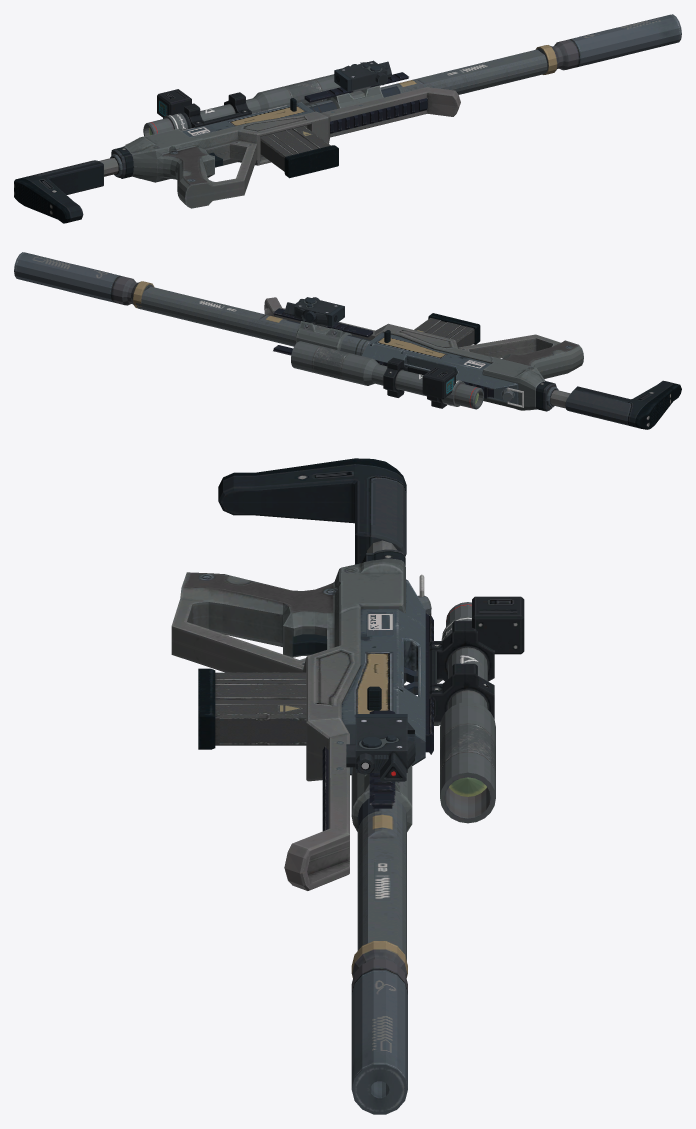
3 views of the same model, one above another, from view 1: azimuth 30°, elevation 25°; view 2: azimuth 150°, elevation 25°; view 3: azimuth 270°, elevation 25° (orthographic). The views are drawn at different scales.
Parts seen in each view (by area): view 1: wp02a_a001a_sm.mo, wp02a_scope001a_sm.mo, wp02a_muzzle001a_sm.mo, wp02a_magazine001a_sm.mo, wp02a_attach001a_sm.mo; view 2: wp02a_a001a_sm.mo, wp02a_scope001a_sm.mo, wp02a_muzzle001a_sm.mo, wp02a_magazine001a_sm.mo, wp02a_attach001a_sm.mo; view 3: wp02a_a001a_sm.mo, wp02a_scope001a_sm.mo, wp02a_muzzle001a_sm.mo, wp02a_magazine001a_sm.mo, wp02a_attach001a_sm.mo.
Part boxes in pixels (left/top/right/bottom): wp02a_a001a_sm.mo: left=14, top=49, right=547, bottom=223; wp02a_scope001a_sm.mo: left=143, top=74, right=340, bottom=136; wp02a_muzzle001a_sm.mo: left=535, top=14, right=681, bottom=74; wp02a_magazine001a_sm.mo: left=260, top=126, right=338, bottom=178; wp02a_attach001a_sm.mo: left=334, top=60, right=391, bottom=92; wp02a_a001a_sm.mo: left=136, top=286, right=681, bottom=429; wp02a_scope001a_sm.mo: left=291, top=341, right=483, bottom=409; wp02a_muzzle001a_sm.mo: left=14, top=252, right=154, bottom=308; wp02a_magazine001a_sm.mo: left=414, top=313, right=480, bottom=347; wp02a_attach001a_sm.mo: left=284, top=297, right=344, bottom=326; wp02a_a001a_sm.mo: left=171, top=458, right=433, bottom=960; wp02a_scope001a_sm.mo: left=429, top=596, right=524, bottom=823; wp02a_muzzle001a_sm.mo: left=351, top=941, right=407, bottom=1114; wp02a_magazine001a_sm.mo: left=198, top=668, right=306, bottom=749; wp02a_attach001a_sm.mo: left=346, top=714, right=415, bottom=781.
Bounding box in the file's own units: 1.09 × 0.0919 × 0.2638.
5 materials, 5 textured.
